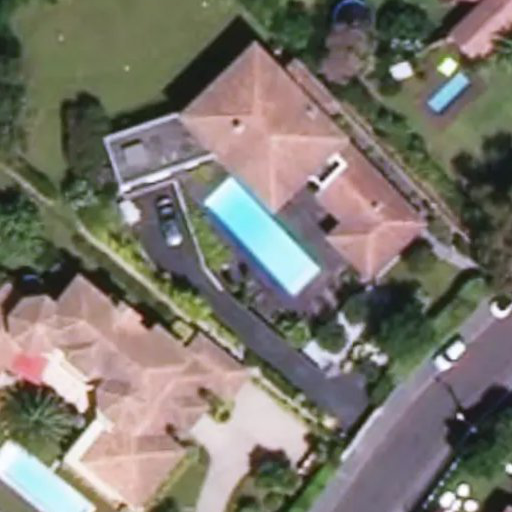pool: (197, 208, 314, 274)
